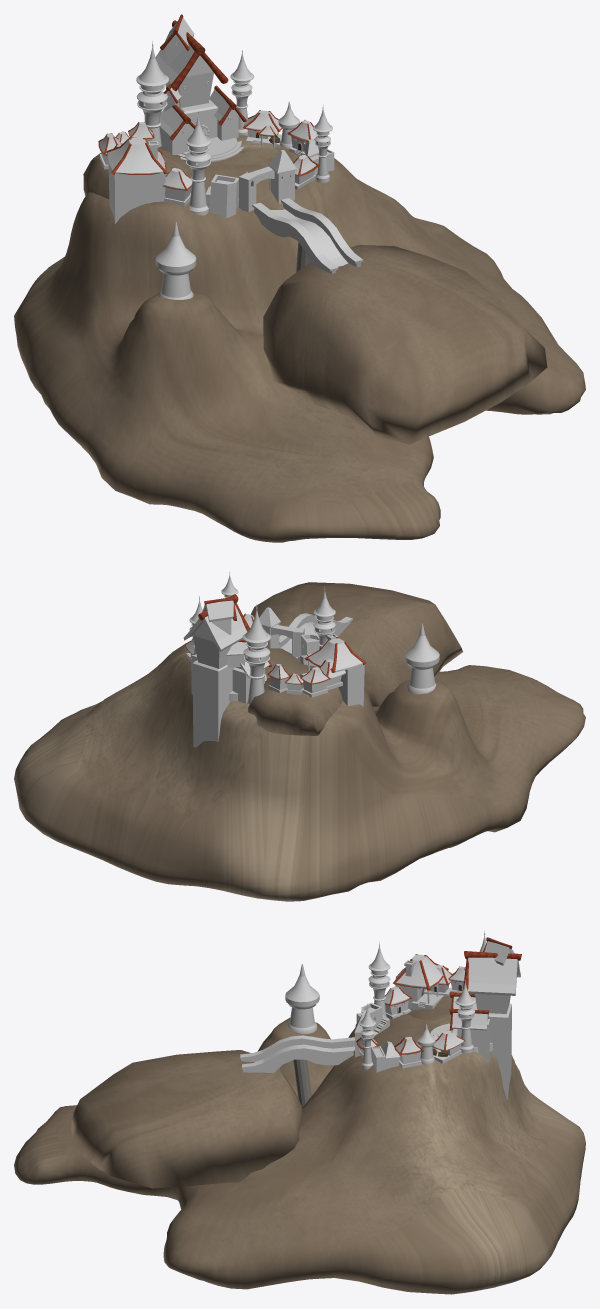
The model's file is environment.fbx.
3 renders of one model, top to bottom at view 1: azimuth 30°, elevation 25°; view 2: azimuth 150°, elevation 25°; view 3: azimuth 270°, elevation 25°, orthographic. The views are drawn at different scales.
Parts seen in each view (by area): view 1: LOW_berg, GROUND_LOW1, bridge1, pCube185, pCube183, GROUND_LOW, pCylinder64, pCube5, pCylinder27, pCylinder84, pCube170, pCube174 (+3 smaller); view 2: LOW_berg, GROUND_LOW1, GROUND_LOW, pCube166, pCube174, pCylinder84, pCube183, pCube185, bridge1, pCylinder27, pCube170, pCylinder28 (+4 smaller); view 3: LOW_berg, GROUND_LOW1, bridge1, pCube174, pCube166, pCube183, pCylinder27, GROUND_LOW, pCylinder28, pCylinder40, pCube170, pCylinder64 (+2 smaller).
Boxes of the visible parts, x1=… form: LOW_berg: x1=14, y1=135, x2=585, y2=542; GROUND_LOW1: x1=263, y1=245, x2=547, y2=444; bridge1: x1=252, y1=198, x2=363, y2=273; pCube185: x1=108, y1=165, x2=165, y2=223; pCube183: x1=107, y1=137, x2=165, y2=175; GROUND_LOW: x1=83, y1=146, x2=187, y2=199; pCylinder64: x1=185, y1=146, x2=211, y2=215; pCube5: x1=210, y1=174, x2=238, y2=218; pCylinder27: x1=155, y1=222, x2=196, y2=272; pCylinder84: x1=136, y1=85, x2=167, y2=146; pCube170: x1=165, y1=72, x2=213, y2=108; pCube174: x1=155, y1=43, x2=212, y2=83; LOW_berg: x1=14, y1=645, x2=585, y2=901; GROUND_LOW1: x1=251, y1=582, x2=462, y2=706; GROUND_LOW: x1=247, y1=674, x2=342, y2=735; pCube166: x1=192, y1=660, x2=235, y2=747; pCube174: x1=183, y1=604, x2=247, y2=651; pCylinder84: x1=243, y1=642, x2=270, y2=706; pCube183: x1=308, y1=638, x2=362, y2=672; pCube185: x1=338, y1=664, x2=364, y2=706; bridge1: x1=279, y1=613, x2=352, y2=653; pCylinder27: x1=405, y1=623, x2=439, y2=666; pCube170: x1=193, y1=635, x2=231, y2=668; pCylinder28: x1=407, y1=664, x2=436, y2=694; LOW_berg: x1=14, y1=1014, x2=585, y2=1294; GROUND_LOW1: x1=70, y1=1050, x2=302, y2=1188; bridge1: x1=240, y1=1035, x2=354, y2=1072; pCube174: x1=468, y1=957, x2=520, y2=995; pCube166: x1=471, y1=1001, x2=511, y2=1099; pCube183: x1=395, y1=954, x2=442, y2=987; pCylinder27: x1=285, y1=964, x2=319, y2=1006; GROUND_LOW: x1=407, y1=995, x2=452, y2=1024; pCylinder28: x1=288, y1=1004, x2=317, y2=1033; pCylinder40: x1=293, y1=1059, x2=311, y2=1107; pCube170: x1=475, y1=994, x2=510, y2=1013; pCylinder64: x1=368, y1=970, x2=390, y2=1015.
Bounding box in the file's own units: 285 × 189 × 359.
